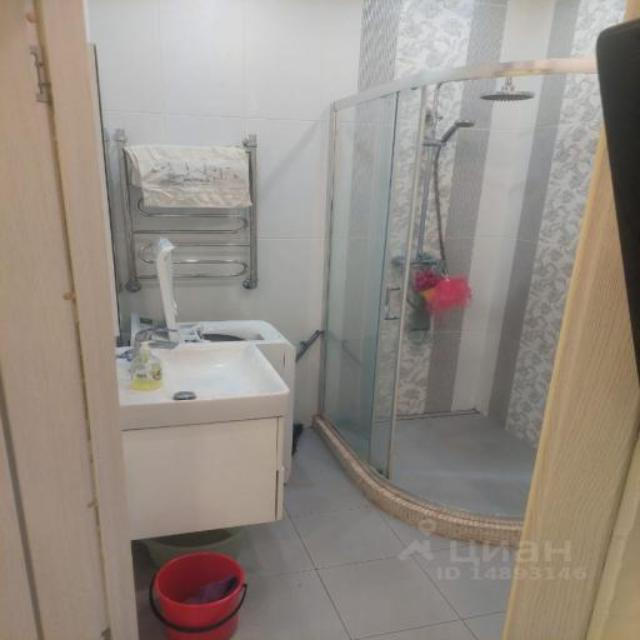Washing-Machine: (128, 315, 296, 483)
